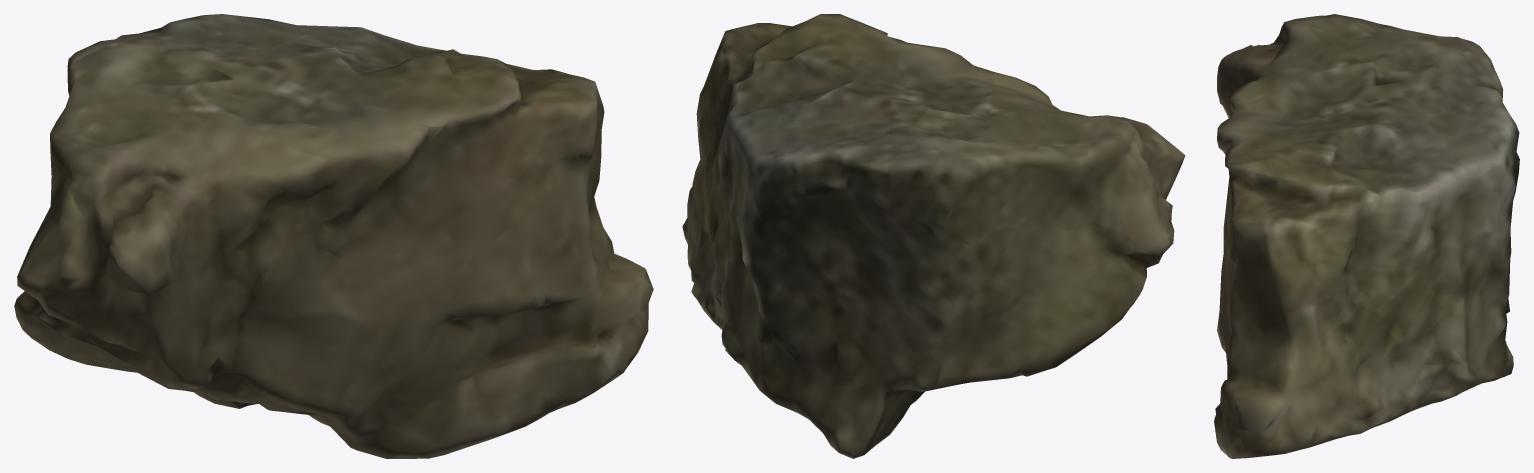
The picture shows the model from 3 angles, left to right: view 1: azimuth 30°, elevation 25°; view 2: azimuth 150°, elevation 25°; view 3: azimuth 270°, elevation 25°; orthographic projection. The views are drawn at different scales.
Visible parts, largest first — view 1: rock_moss_set_02__g_lod1; view 2: rock_moss_set_02__g_lod1; view 3: rock_moss_set_02__g_lod1.
Part boxes in pixels (x1,y1,x2,y2): rock_moss_set_02__g_lod1: [14, 14, 653, 458]; rock_moss_set_02__g_lod1: [682, 14, 1185, 458]; rock_moss_set_02__g_lod1: [1214, 14, 1519, 458].
Bounding box in the file's own units: 2.09 × 1.26 × 1.14.
Materials: 1 (1 with a texture image).
